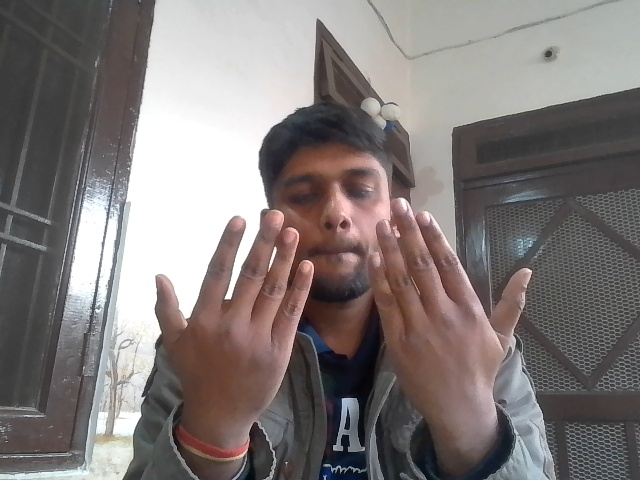ThankYou: (135, 208, 530, 413)
